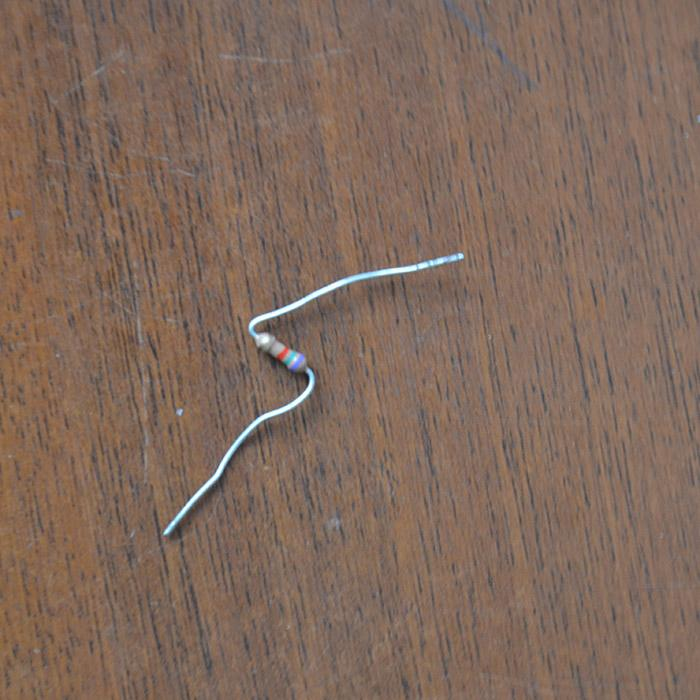resistor: (255, 331, 307, 373)
